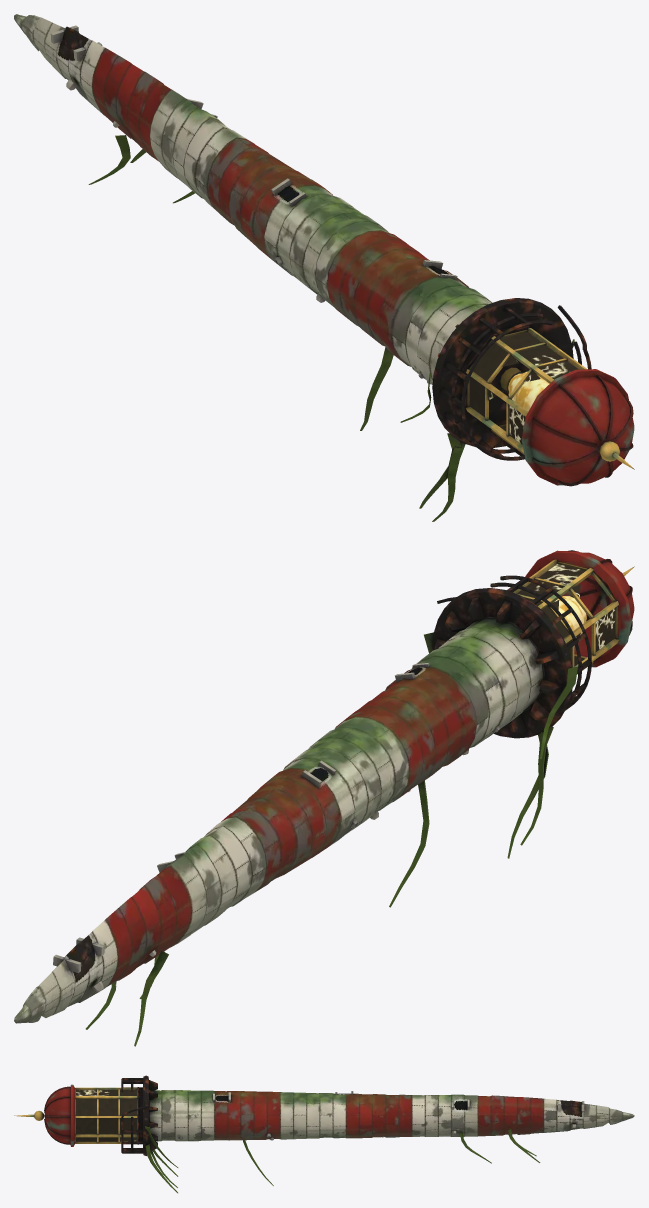
The picture shows the model from 3 angles, top to bottom: view 1: azimuth 30°, elevation 25°; view 2: azimuth 150°, elevation 25°; view 3: azimuth 270°, elevation 25°; orthographic projection. The views are drawn at different scales.
Parts seen in each view (by area): view 1: drowned_lighthouse; view 2: drowned_lighthouse; view 3: drowned_lighthouse.
Boxes of the visible parts, x1,y1,x2,y2 form: drowned_lighthouse: (14, 14, 634, 521); drowned_lighthouse: (14, 550, 634, 1046); drowned_lighthouse: (14, 1075, 634, 1193).
Size of the model in its own units: 0.1395 by 0.2098 by 1.
Materials: 1 (1 with a texture image).
